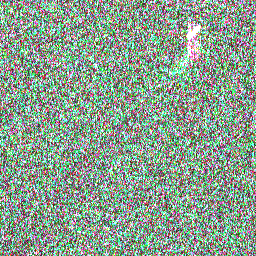ship: (183, 19, 203, 42)
